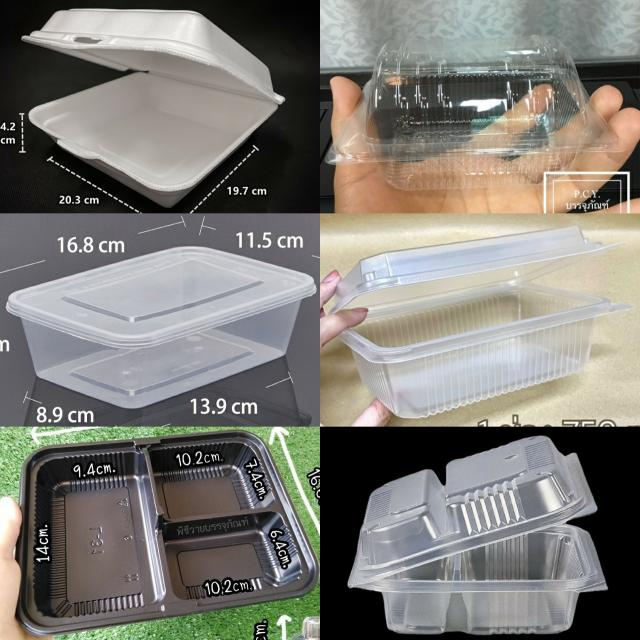Single-Use-Plastic: (19, 431, 318, 634), (333, 226, 629, 418), (24, 9, 284, 208), (348, 436, 605, 634), (6, 246, 315, 408), (330, 35, 615, 189)
